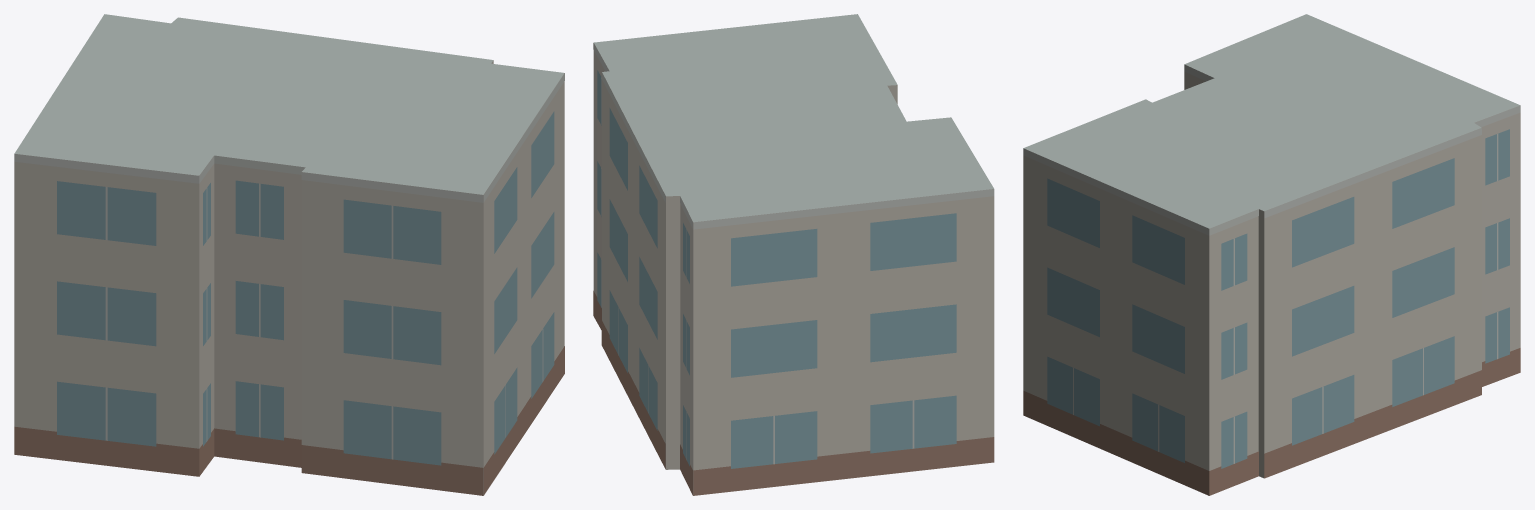
Rendered from survey-upis-32519265.glb.
The picture shows the model from 3 angles, left to right: view 1: azimuth 30°, elevation 25°; view 2: azimuth 150°, elevation 25°; view 3: azimuth 270°, elevation 25°; orthographic projection. The views are drawn at different scales.
Visible parts, largest first — view 1: survey-upis-32519265.tmp; view 2: survey-upis-32519265.tmp; view 3: survey-upis-32519265.tmp.
Boxes of the visible parts, box(x1,y1,x2,y2) form: survey-upis-32519265.tmp: box(14, 14, 564, 495); survey-upis-32519265.tmp: box(593, 14, 994, 495); survey-upis-32519265.tmp: box(1023, 14, 1520, 495).
Bounding box in the file's own units: 15.78 × 9.15 × 15.45.
